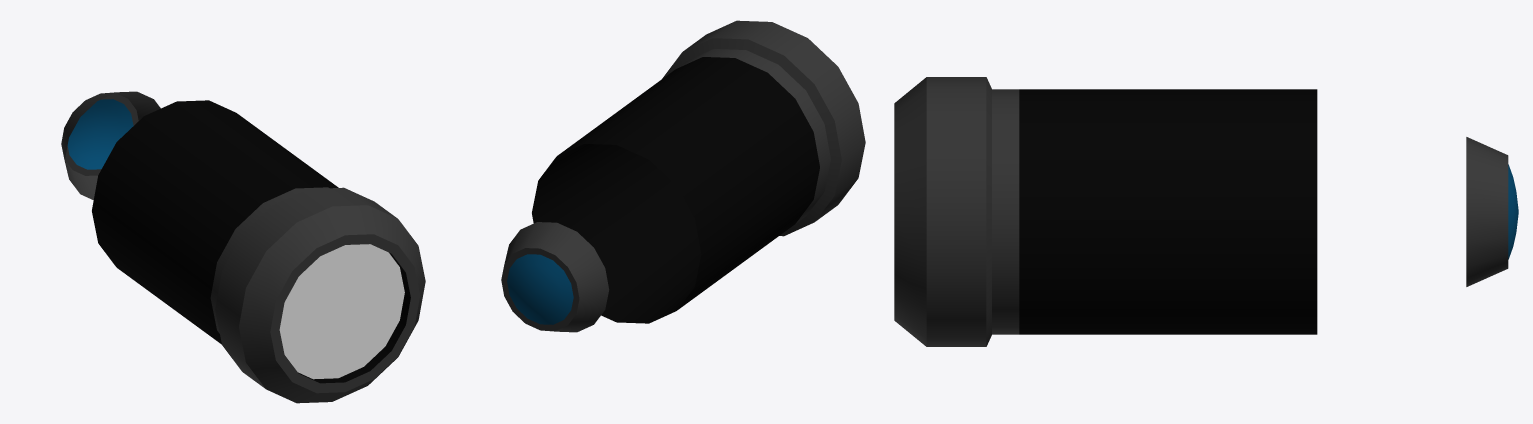
The model's file is TankSight_OneAndHalf.fbx.
3 views of the same model, side by side, from view 1: azimuth 30°, elevation 25°; view 2: azimuth 150°, elevation 25°; view 3: azimuth 270°, elevation 25° (orthographic). The views are drawn at different scales.
Parts seen in each view (by area): view 1: Cube.004, Cube.005; view 2: Cube.004; view 3: Cube.004.
Part boxes in pixels (box(x1,y1,x2,y2)): Cube.004: box(61, 91, 425, 403); Cube.005: box(279, 244, 404, 379); Cube.004: box(501, 20, 865, 332); Cube.004: box(894, 77, 1518, 346).
Bounding box in the file's own units: 1 × 2.1 × 1.
